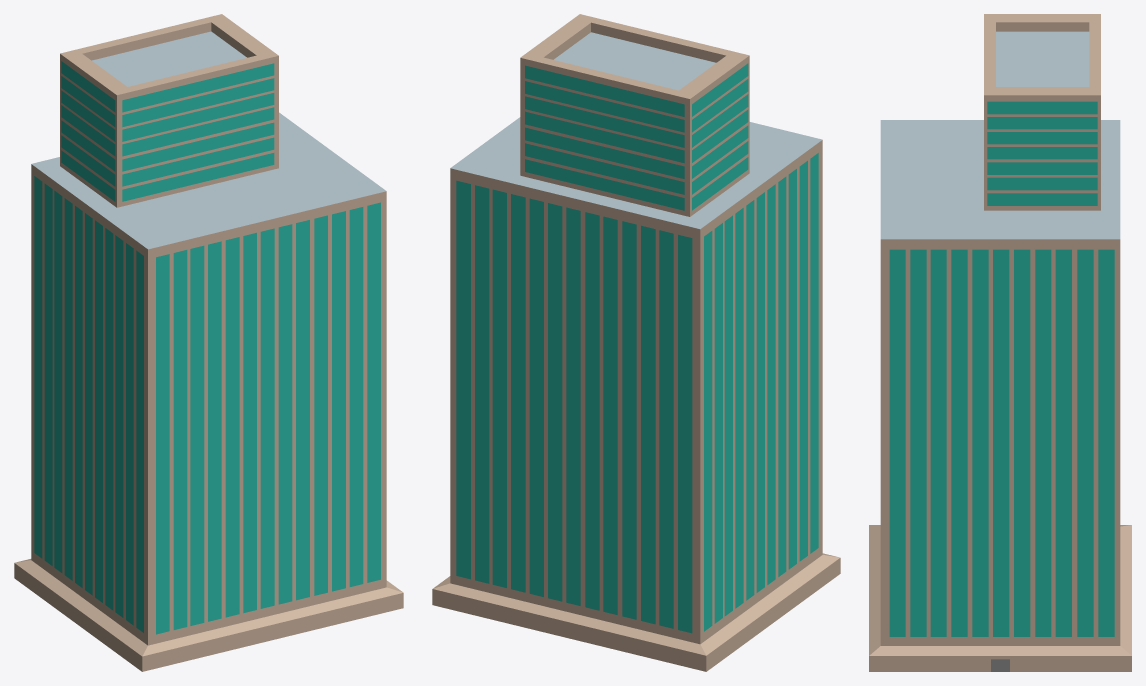
File: Skyscraper4.fbx
3 views of the same model, side by side, from view 1: azimuth 30°, elevation 25°; view 2: azimuth 150°, elevation 25°; view 3: azimuth 270°, elevation 25° (orthographic). The views are drawn at different scales.
Parts seen in each view (by area): view 1: Skyscraper4; view 2: Skyscraper4; view 3: Skyscraper4.
Boxes of the visible parts, <box> form: Skyscraper4: <box>14,14,403,671</box>; Skyscraper4: <box>432,14,840,671</box>; Skyscraper4: <box>869,14,1131,671</box>.
Bounding box in the file's own units: 474 × 914 × 402.
